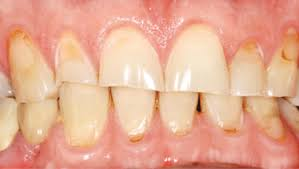rough: (98, 23, 165, 93), (166, 23, 230, 94), (57, 81, 112, 149), (8, 26, 57, 102), (109, 85, 157, 143), (230, 36, 267, 97), (56, 31, 96, 86), (243, 96, 284, 141), (20, 100, 57, 147), (268, 42, 295, 98)
yellow: (159, 89, 197, 135), (199, 91, 241, 132)
